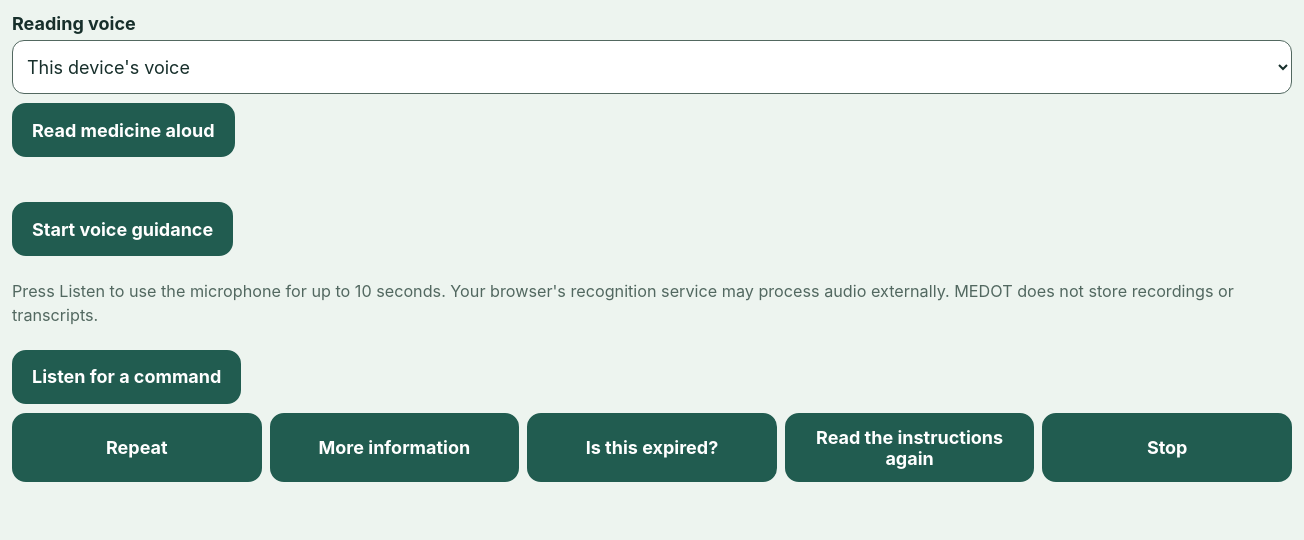
Test: Stop aborts validation and discards a late reply
Click the button "Read medicine aloud" at (123, 130), box [12,103,234,157]
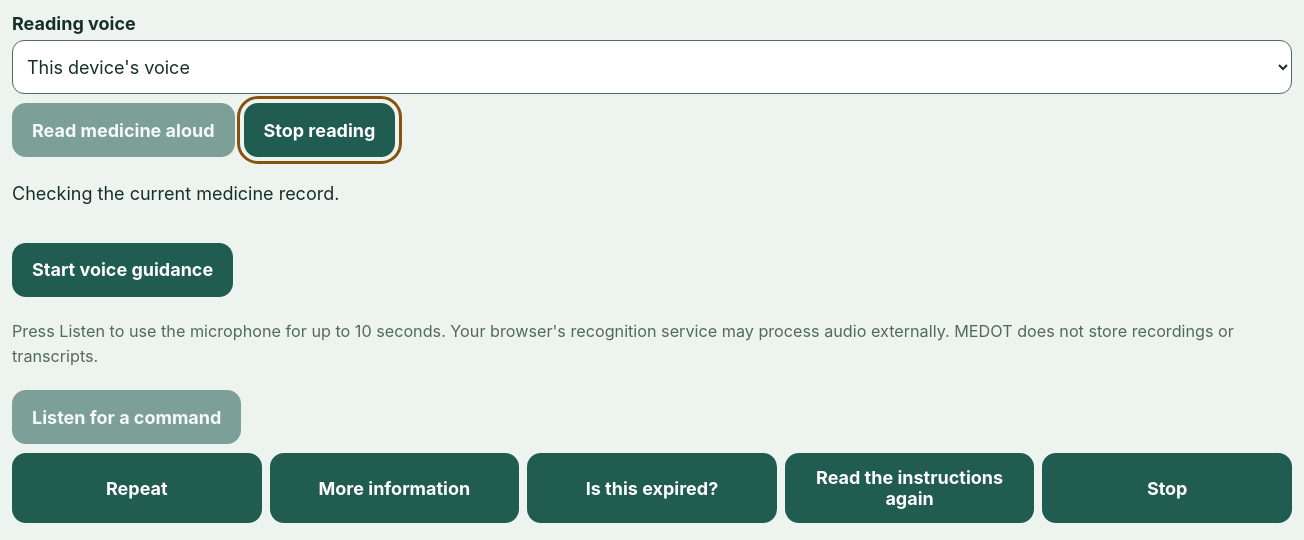
Click the button "Stop reading" at (319, 130), box [244,103,395,157]
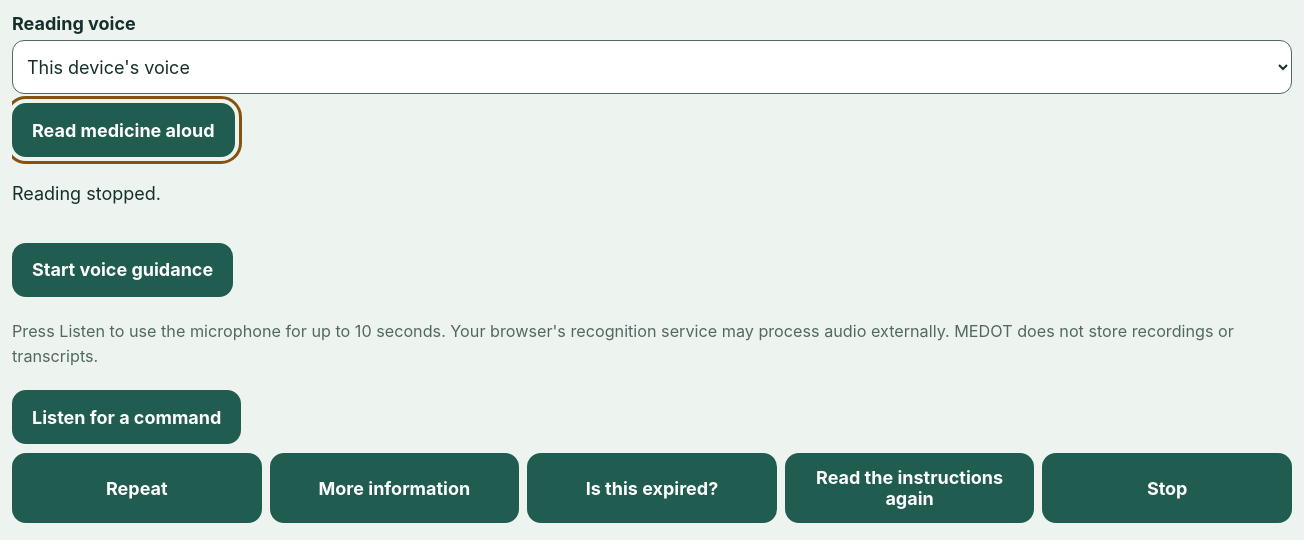
Check: the text "Reading stopped." is shown, box [12,183,161,204]
